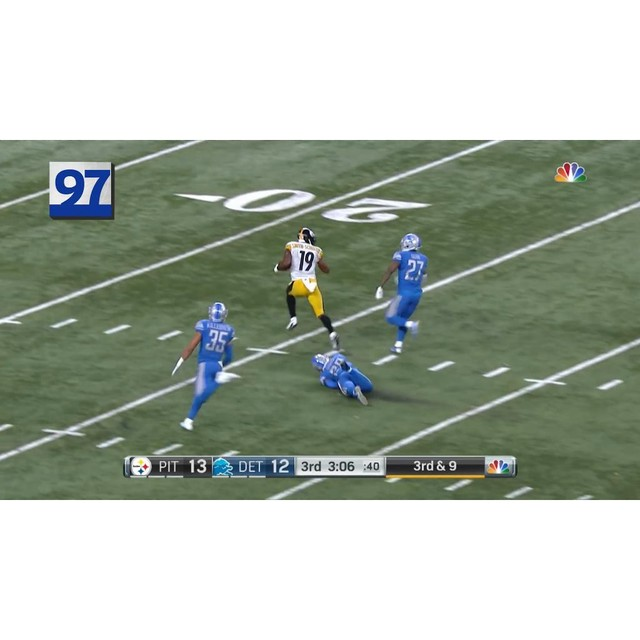american-football-player: (172, 302, 245, 429), (273, 227, 340, 347), (372, 233, 432, 355), (311, 344, 374, 406)
